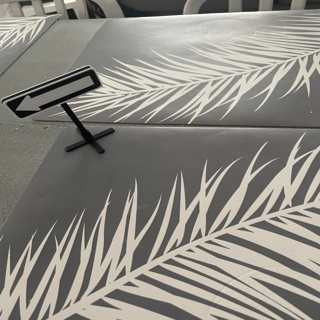sign_oneway_left: (10, 65, 91, 123)
